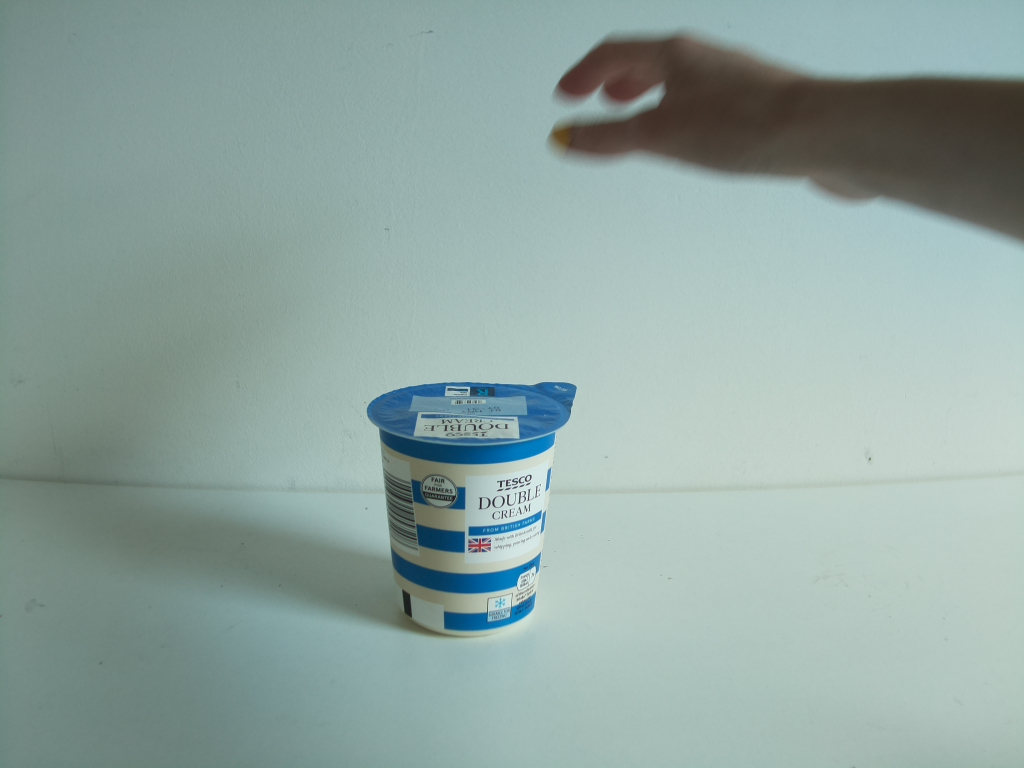cream: (368, 375, 577, 638)
